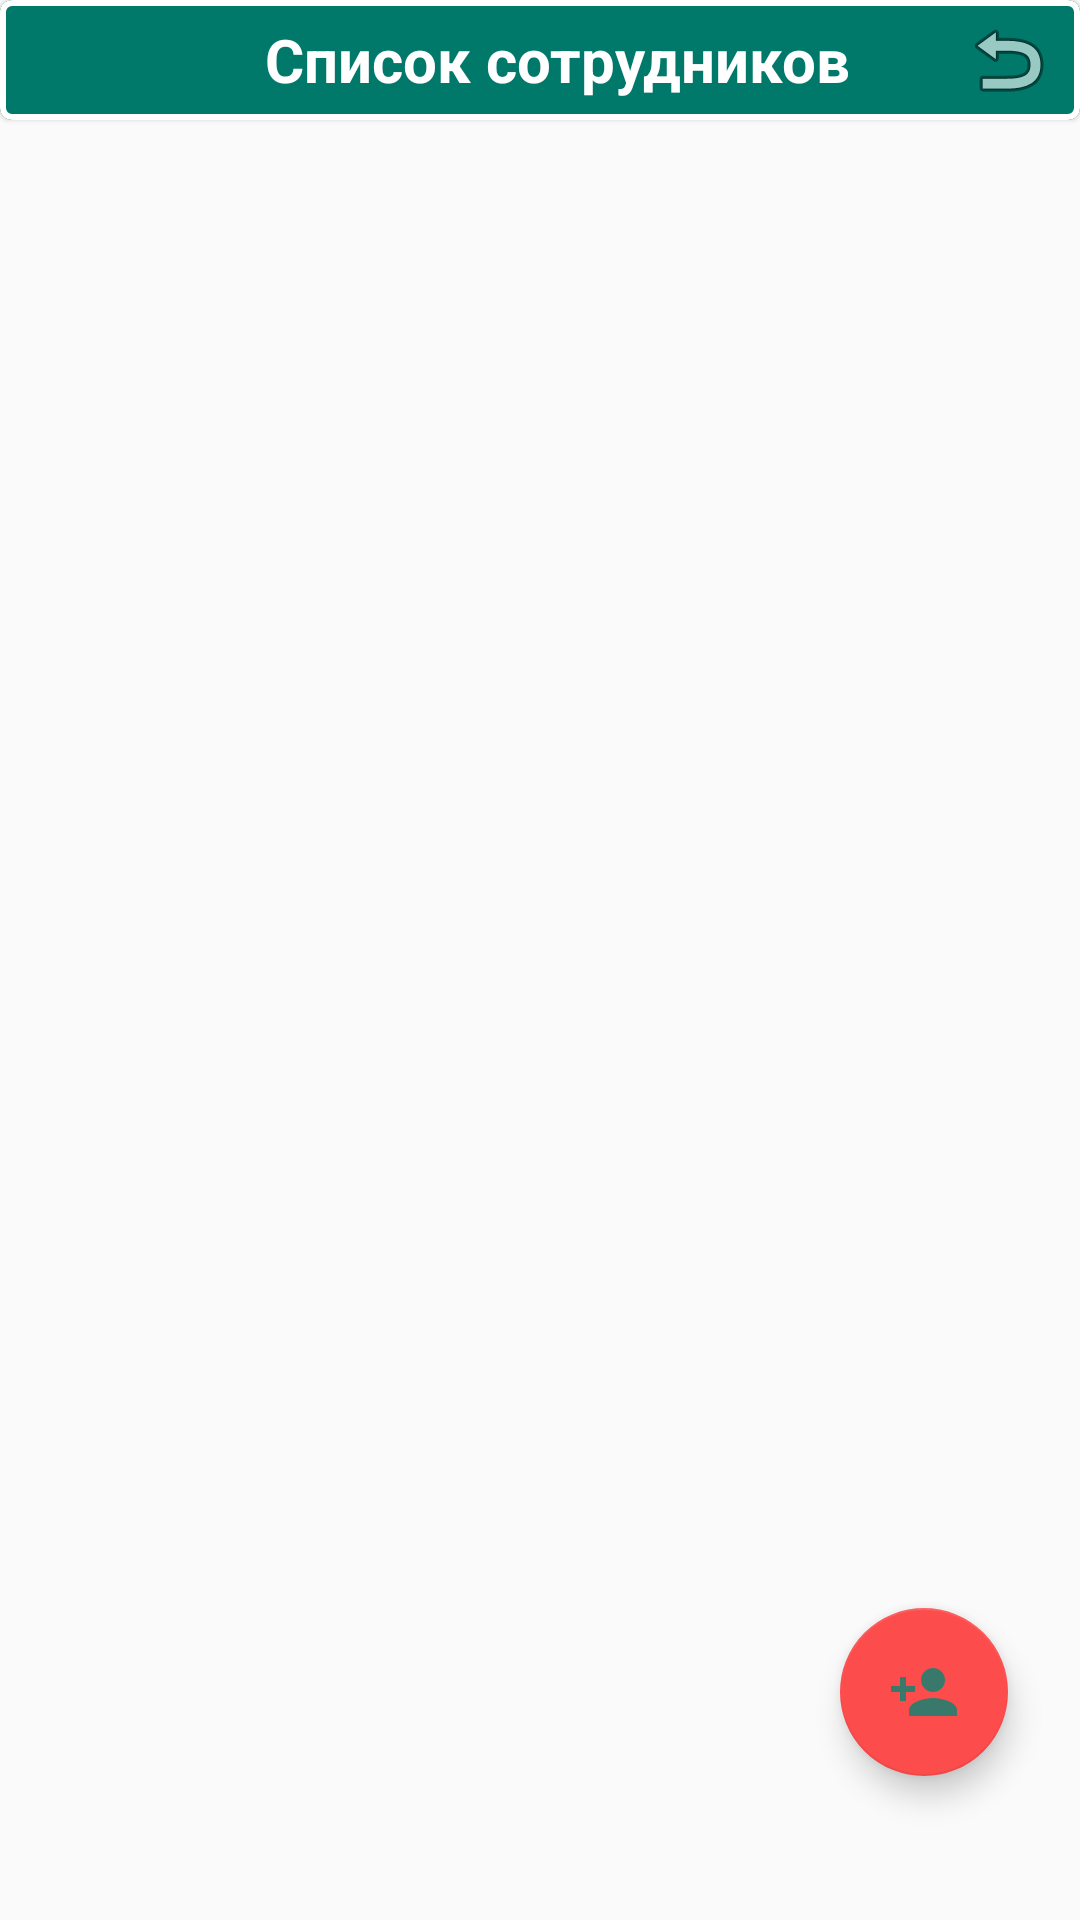

Screen size 1080w x 1920h. Icon name, then its box in pixels as {"x1": x1, "y1": y1, "x2": x2, "y2": y2}:
person add: {"x1": 840, "y1": 1608, "x2": 1008, "y2": 1776}
revert: {"x1": 975, "y1": 30, "x2": 1044, "y2": 92}
